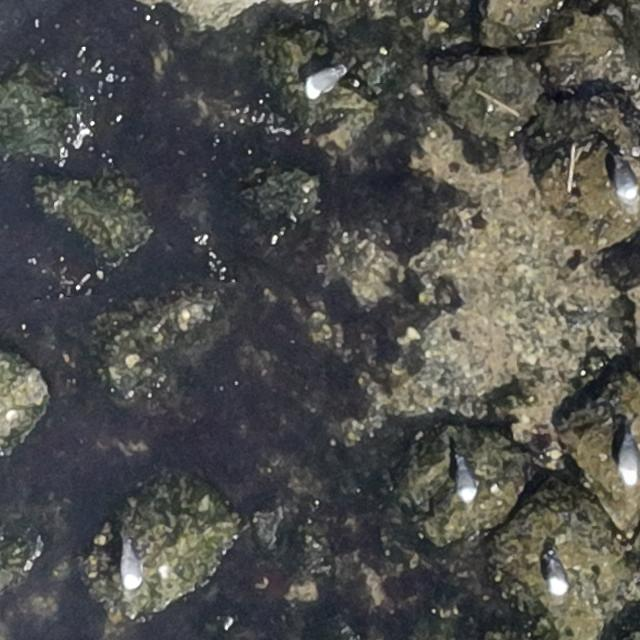umineko: (116, 546, 148, 592), (304, 70, 339, 95), (618, 441, 638, 482), (546, 560, 568, 596), (458, 463, 478, 502), (616, 164, 636, 198)
